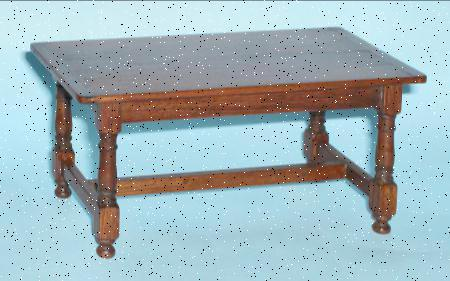Mesa: (26, 28, 425, 257)
